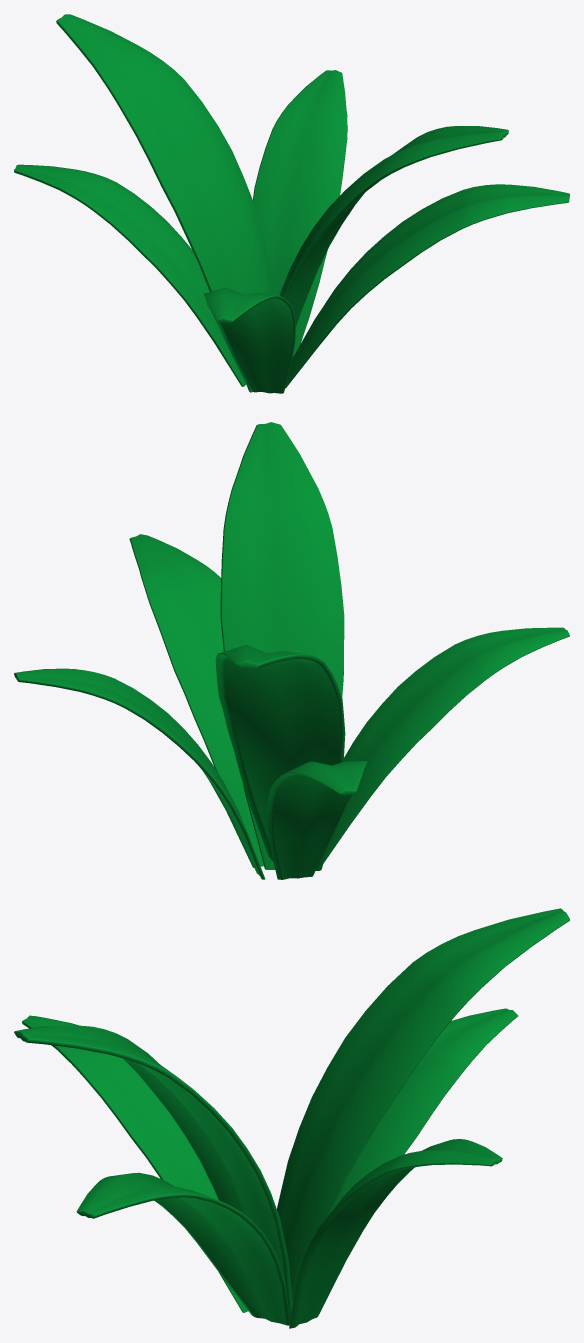
File: Farm_4_Plant_1.glb
3 renders of one model, top to bottom at view 1: azimuth 30°, elevation 25°; view 2: azimuth 150°, elevation 25°; view 3: azimuth 270°, elevation 25°, orthographic. The views are drawn at different scales.
Parts seen in each view (by area): view 1: Farm_4_Plant_1; view 2: Farm_4_Plant_1; view 3: Farm_4_Plant_1.
Part boxes in pixels (left/top/right/bottom): Farm_4_Plant_1: left=14, top=14, right=569, bottom=393; Farm_4_Plant_1: left=14, top=422, right=569, bottom=879; Farm_4_Plant_1: left=14, top=908, right=569, bottom=1328.
Size of the model in its own units: 1.15 by 0.8587 by 1.22.
Materials: 1 (1 with a texture image).
